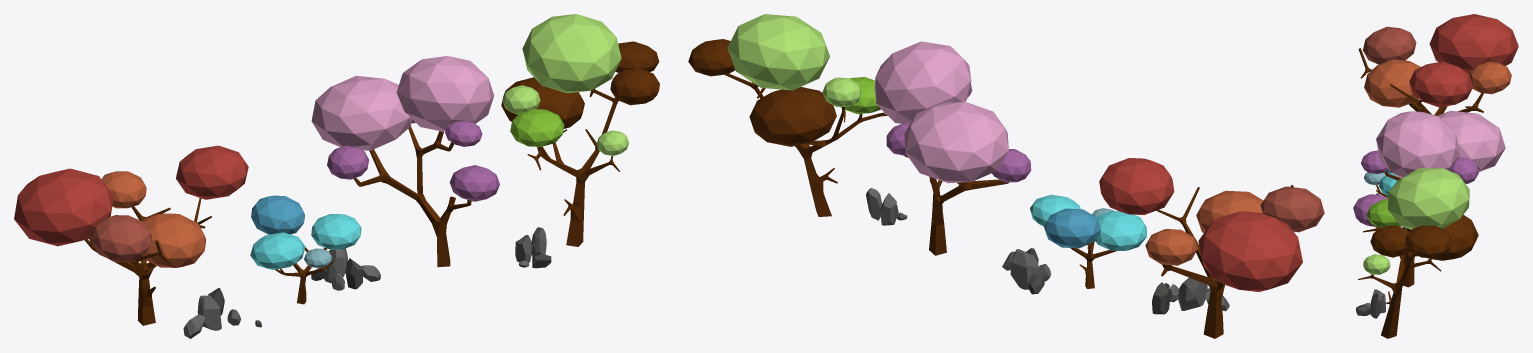
The model's file is LowpolyTrees.fbx.
The picture shows the model from 3 angles, left to right: view 1: azimuth 30°, elevation 25°; view 2: azimuth 150°, elevation 25°; view 3: azimuth 270°, elevation 25°; orthographic projection. The views are drawn at different scales.
Parts seen in each view (by area): view 1: Tree 3, tree 1, Tree 4, Tree2, Cube.007, Cube.002; view 2: tree 1, Tree 3, Tree 4, Tree2, Cube.002, Cube.007, Cube.010; view 3: tree 1, Tree 4, Tree 3, Tree2, Cube.012, Cube.011.
Boxes of the visible parts, left/top/right/bottom form: Tree 3: left=311, top=56, right=499, bottom=267; tree 1: left=14, top=145, right=248, bottom=325; Tree 4: left=501, top=14, right=659, bottom=246; Tree2: left=250, top=195, right=361, bottom=304; Cube.007: left=197, top=295, right=221, bottom=330; Cube.002: left=323, top=248, right=347, bottom=283; tree 1: left=1099, top=158, right=1324, bottom=338; Tree 3: left=874, top=41, right=1031, bottom=255; Tree 4: left=688, top=14, right=887, bottom=216; Tree2: left=1030, top=194, right=1146, bottom=288; Cube.002: left=1010, top=249, right=1039, bottom=289; Cube.007: left=1178, top=277, right=1207, bottom=310; Cube.010: left=1152, top=282, right=1169, bottom=314; tree 1: left=1358, top=14, right=1518, bottom=115; Tree 4: left=1358, top=168, right=1478, bottom=338; Tree 3: left=1353, top=110, right=1505, bottom=287; Tree2: left=1364, top=169, right=1402, bottom=226; Cube.012: left=1370, top=293, right=1383, bottom=318; Cube.011: left=1356, top=304, right=1370, bottom=315.
Size of the model in its own units: 2740 by 864 by 751.
